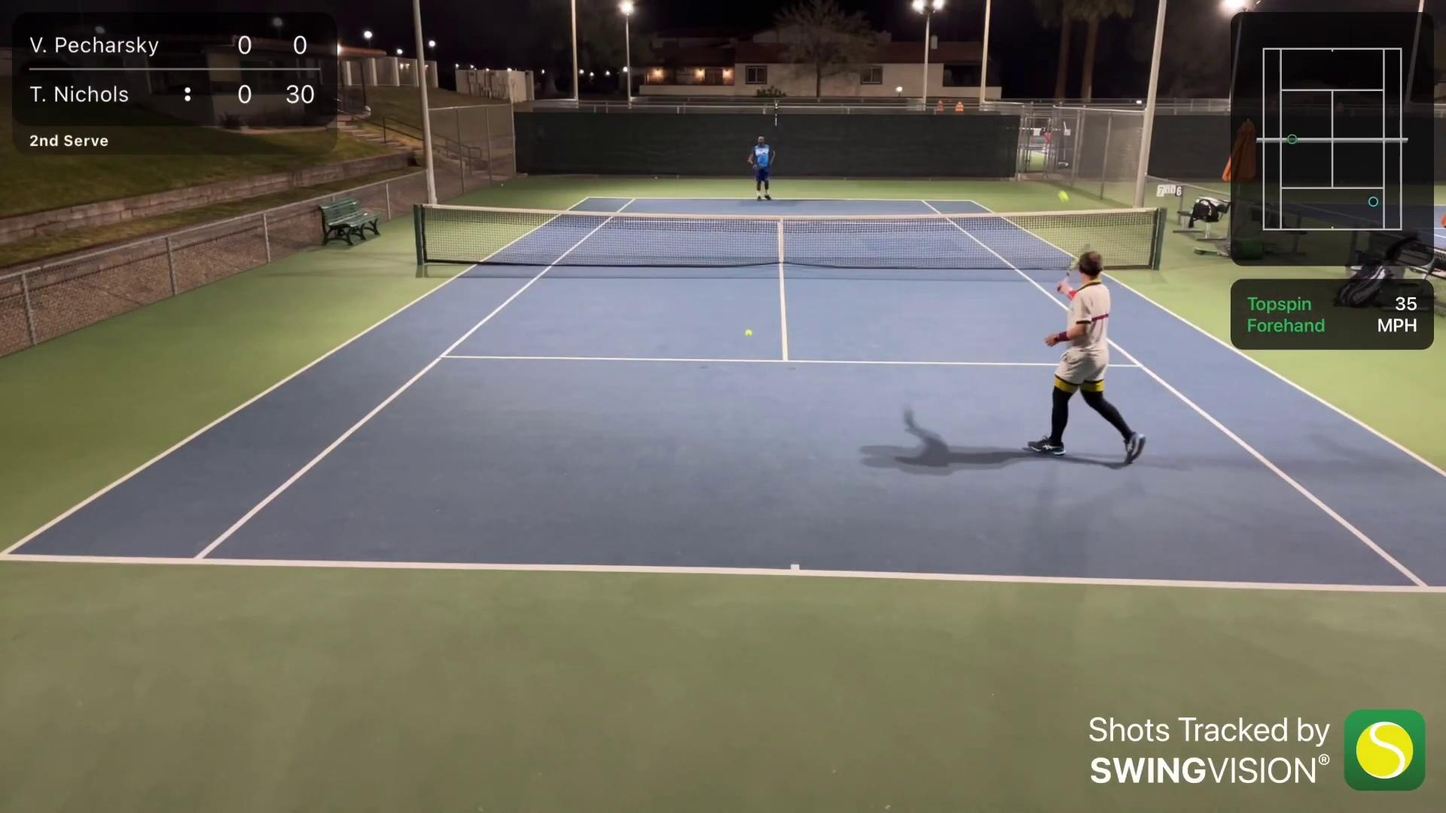ball: (742, 324, 758, 340), (1054, 188, 1070, 204)
